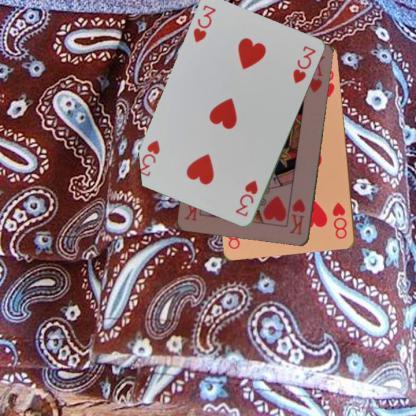3h: (232, 178, 260, 218), (191, 2, 217, 44)
8h: (330, 200, 348, 240)
Kh: (286, 196, 306, 236)
